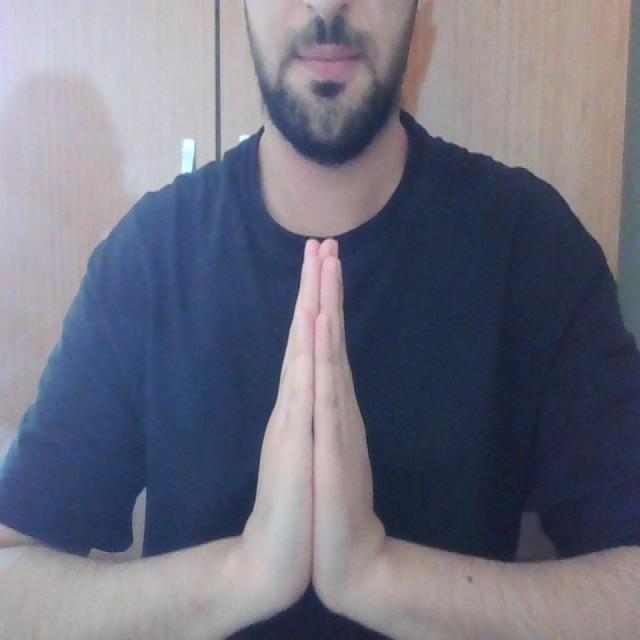Ozur-Dilemek: (245, 225, 394, 636)
